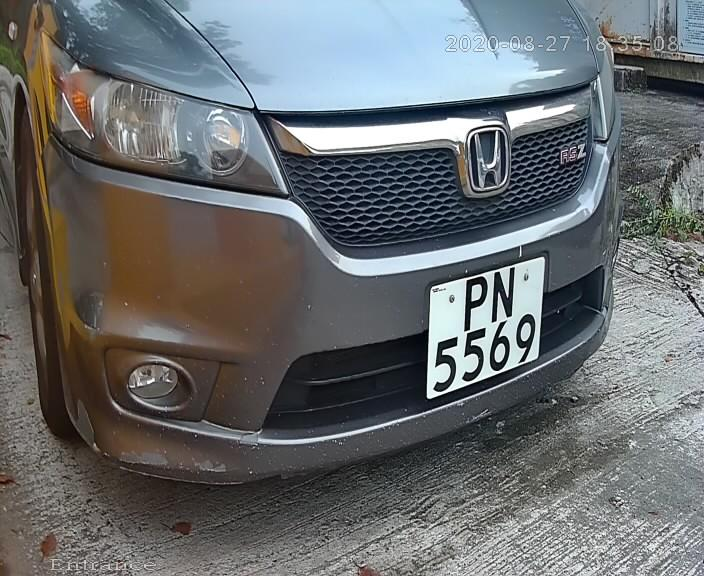License Plate: (412, 245, 557, 407)
